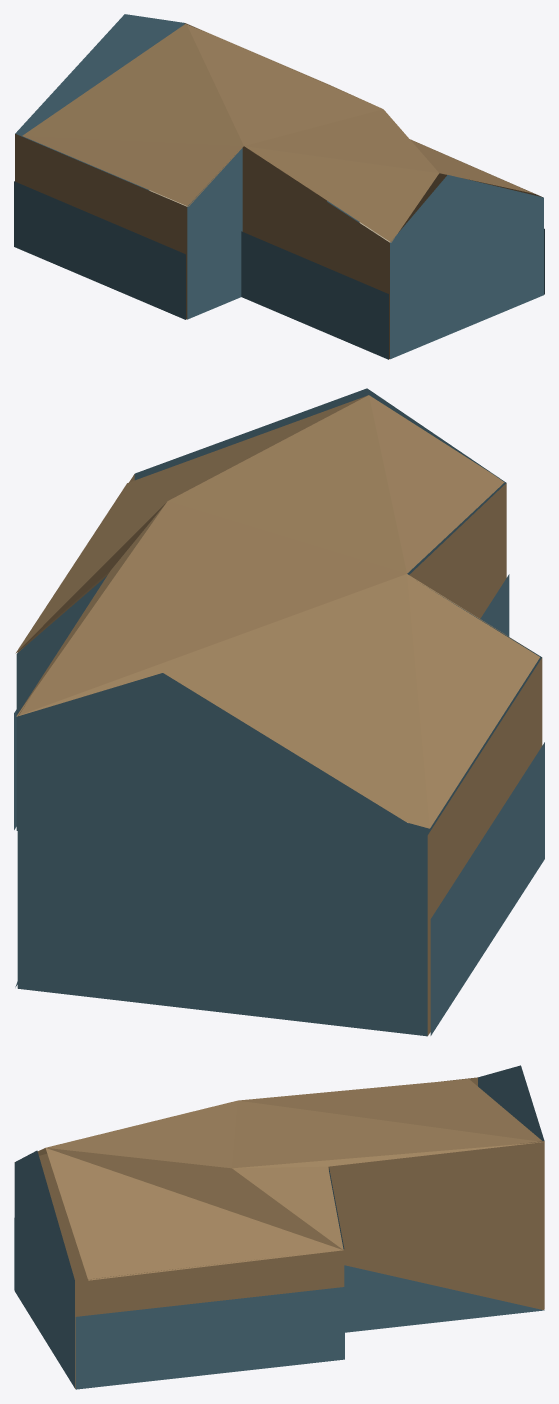
File: vondeltuin.lod2.glb
3 views of the same model, one above another, from view 1: azimuth 30°, elevation 25°; view 2: azimuth 150°, elevation 25°; view 3: azimuth 270°, elevation 25° (orthographic). The views are drawn at different scales.
Visible parts, largest first — view 1: lod2; view 2: lod2; view 3: lod2.
Boxes of the visible parts, box(x1,y1,x2,y2) form: lod2: box(14, 14, 544, 359); lod2: box(14, 388, 544, 1036); lod2: box(14, 1065, 544, 1389).
Bounding box in the file's own units: 12.67 × 6.47 × 15.1.
